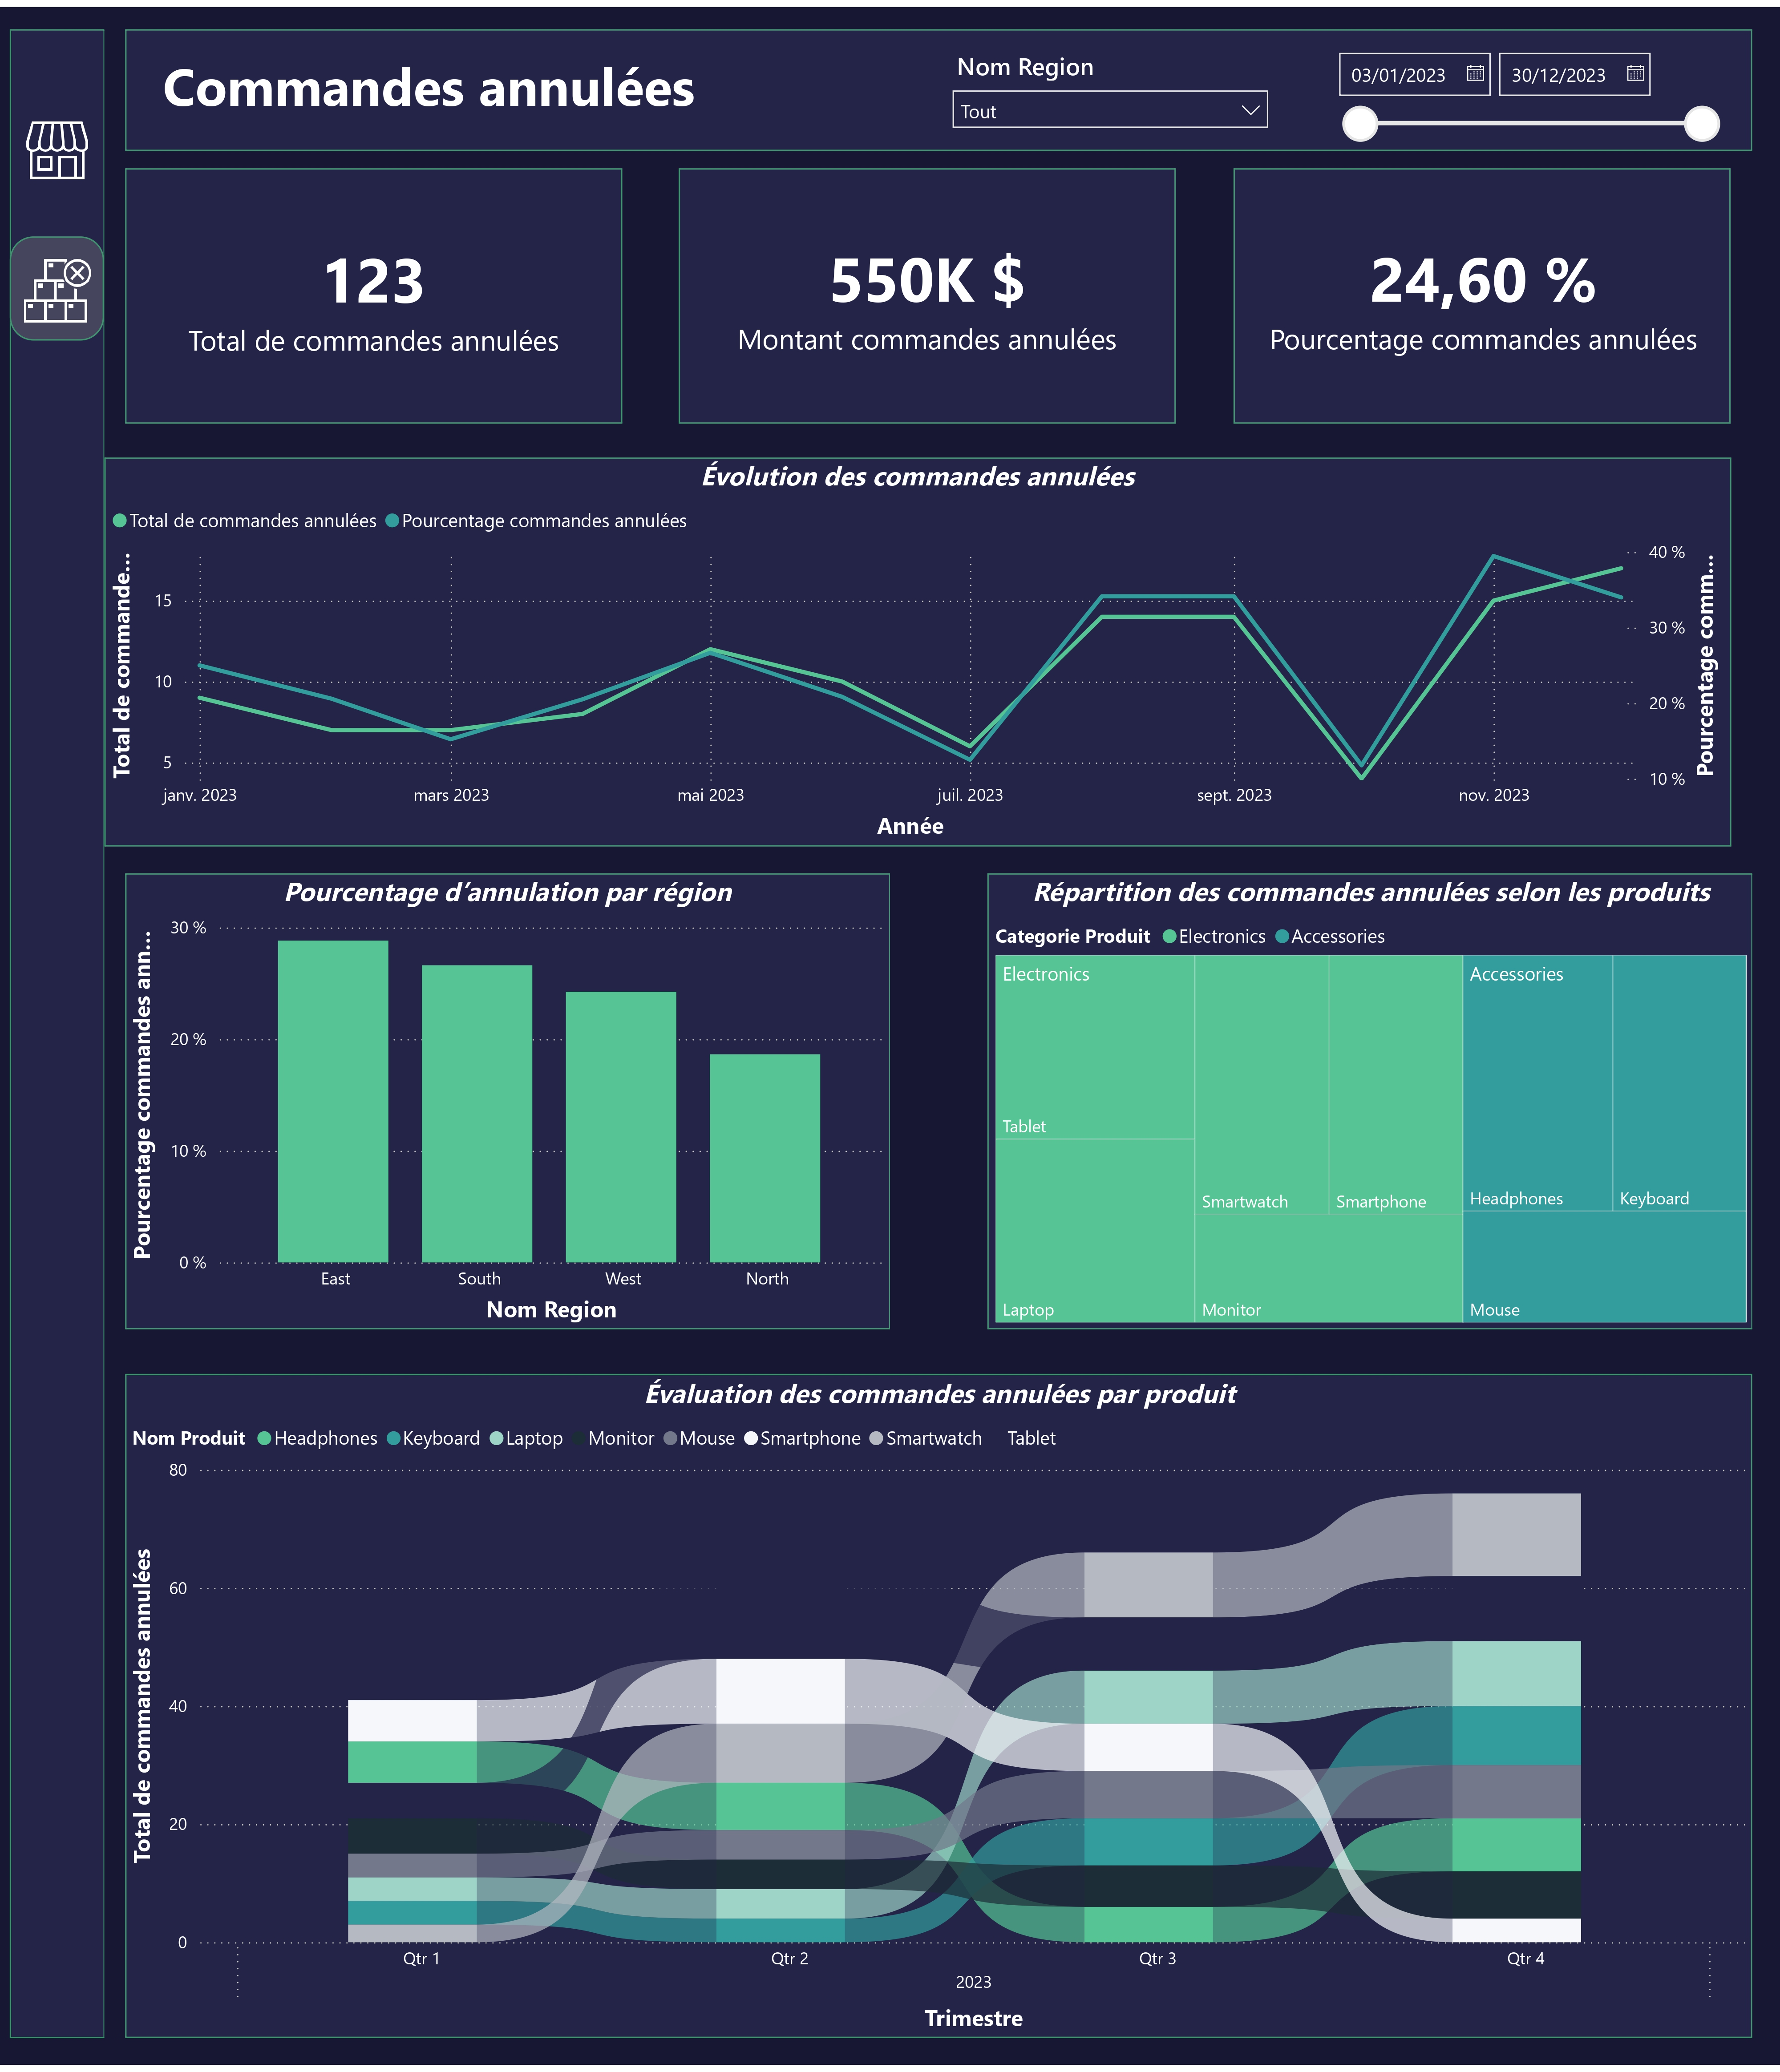

This screenshot's page, from the dashboard's own definition file:
{"tool":"powerbi","page":{"name":"Ventes annulées","canvas":[1280,1480],"ordinal":1},"visuals":[{"type":"shape","box":[7.5,16,68.4,1444.8],"z":0},{"type":"shape","box":[89.8,16,1170.1,87.6],"z":1000},{"type":"shape","box":[90.4,115.9,357.5,183.7],"z":2000},{"type":"shape","box":[74.9,323.6,1170.1,279.8],"z":3000},{"type":"shape","box":[89.8,623,550.3,328.1],"z":4000},{"type":"shape","box":[709.6,623,550.3,328.1],"z":5000},{"type":"shape","box":[89.8,983.1,1170.1,477.7],"z":6000},{"type":"textbox","box":[100.6,26,414.6,64.2],"z":7000},{"type":"lineChart","title":"Évolution des commandes annulées","fields":{"Category":["Ventes.Date Commande.Variation.Hiérarchie de dates.Année","Ventes.Date Commande.Variation.Hiérarchie de dates.Trimestre","Ventes.Date Commande.Variation.Hiérarchie de dates.Mois"],"Y2":["Mesures.Pourcentage commandes annulées"],"Y":["Mesures.Total de commandes annulées"]},"box":[74.6,324.4,1169.3,279.3],"z":8000},{"type":"clusteredColumnChart","title":"Pourcentage d’annulation par région","fields":{"Category":["Regions.Nom Region"],"Y":["Mesures.Pourcentage commandes annulées"]},"box":[90.4,623.2,549.7,327.8],"z":9000},{"type":"treemap","title":"Répartition des commandes annulées selon les produits","fields":{"Group":["Porduits.Categorie Produit"],"Values":["Mesures.Total Ventes"],"Details":["Porduits.Nom Produit"]},"box":[710.8,623.2,549.7,327.8],"z":10000},{"type":"slicer","fields":{"Values":["Regions.Nom Region"]},"box":[675.5,25.4,247.3,76.3],"z":11000},{"type":"slicer","fields":{"Values":["Ventes.Date Commande"]},"box":[949.6,22.6,295.3,80.5],"z":12000},{"type":"shape","box":[487.5,115.9,357.5,183.7],"z":13000},{"type":"shape","box":[887.4,115.9,357.5,183.7],"z":14000},{"type":"card","fields":{"Values":["Mesures.Total de commandes annulées"]},"box":[90.4,115.9,357.5,183.7],"z":15000},{"type":"card","fields":{"Values":["Mesures.Montant total des commandes annulées"]},"box":[487.5,116.2,357.4,182.2],"z":16000},{"type":"card","fields":{"Values":["Mesures.Pourcentage commandes annulées"]},"box":[888.3,116.2,357.4,182.2],"z":17000},{"type":"ribbonChart","title":"Évaluation des commandes annulées par produit","fields":{"Y":["Mesures.Total de commandes annulées"],"Category":["Ventes.Date Commande.Variation.Hiérarchie de dates.Année","Ventes.Date Commande.Variation.Hiérarchie de dates.Trimestre","Ventes.Date Commande.Variation.Hiérarchie de dates.Mois"],"Series":["Porduits.Nom Produit"]},"box":[90.2,983.7,1171,477.1],"z":18000},{"type":"shape","box":[7.1,165.3,67.8,74.9],"z":21500},{"type":"image","box":[7.1,57.9,67.8,90.4],"z":22000},{"type":"image","box":[7.1,149.8,67.8,107.4],"z":22500}]}

Visuals, with their boxes in screenshot pixels (x1, y1, x2, y2), scaled from the page's 1280x1480 canvas onto the 1780x2072 screenshot:
shape: 10,22,105,2045
shape: 125,22,1752,145
shape: 125,162,623,420
shape: 104,453,1731,845
shape: 125,872,890,1332
shape: 987,872,1752,1332
shape: 125,1376,1752,2045
textbox: 140,36,716,126
"Évolution des commandes annulées" lineChart: 104,454,1730,845
"Pourcentage d’annulation par région" clusteredColumnChart: 125,872,890,1331
"Répartition des commandes annulées selon les produits" treemap: 988,872,1753,1331
slicer - Regions.Nom Region: 939,36,1283,142
slicer - Ventes.Date Commande: 1321,32,1731,144
shape: 678,162,1175,420
shape: 1234,162,1731,420
card - Mesures.Total de commandes annulées: 125,162,623,420
card - Mesures.Montant total des commandes annulées: 678,163,1175,418
card - Mesures.Pourcentage commandes annulées: 1235,163,1732,418
"Évaluation des commandes annulées par produit" ribbonChart: 125,1377,1754,2045
shape: 10,231,104,336
image: 10,81,104,208
image: 10,210,104,360
